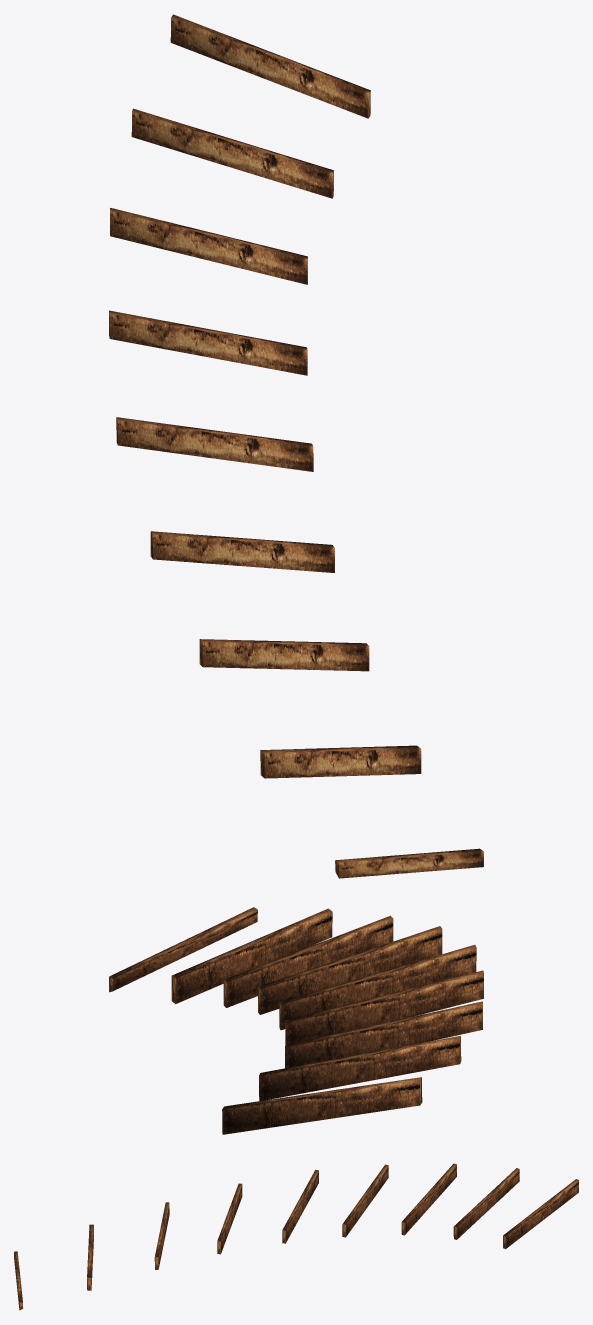
Rendered from wood_planks.glb.
3 views of the same model, one above another, from view 1: azimuth 30°, elevation 25°; view 2: azimuth 210°, elevation 25°; view 3: azimuth 270°, elevation 25° (orthographic). The views are drawn at different scales.
Visible parts, largest first — view 1: dark-wall-wood.png__; view 2: dark-wall-wood.png__; view 3: dark-wall-wood.png__.
Boxes of the visible parts, bbox=[...] form: dark-wall-wood.png__: bbox=[109, 14, 483, 878]; dark-wall-wood.png__: bbox=[109, 907, 483, 1134]; dark-wall-wood.png__: bbox=[14, 1163, 578, 1310].
Bounding box in the file's own units: 20.87 × 14.57 × 39.
1 material, 1 textured.
